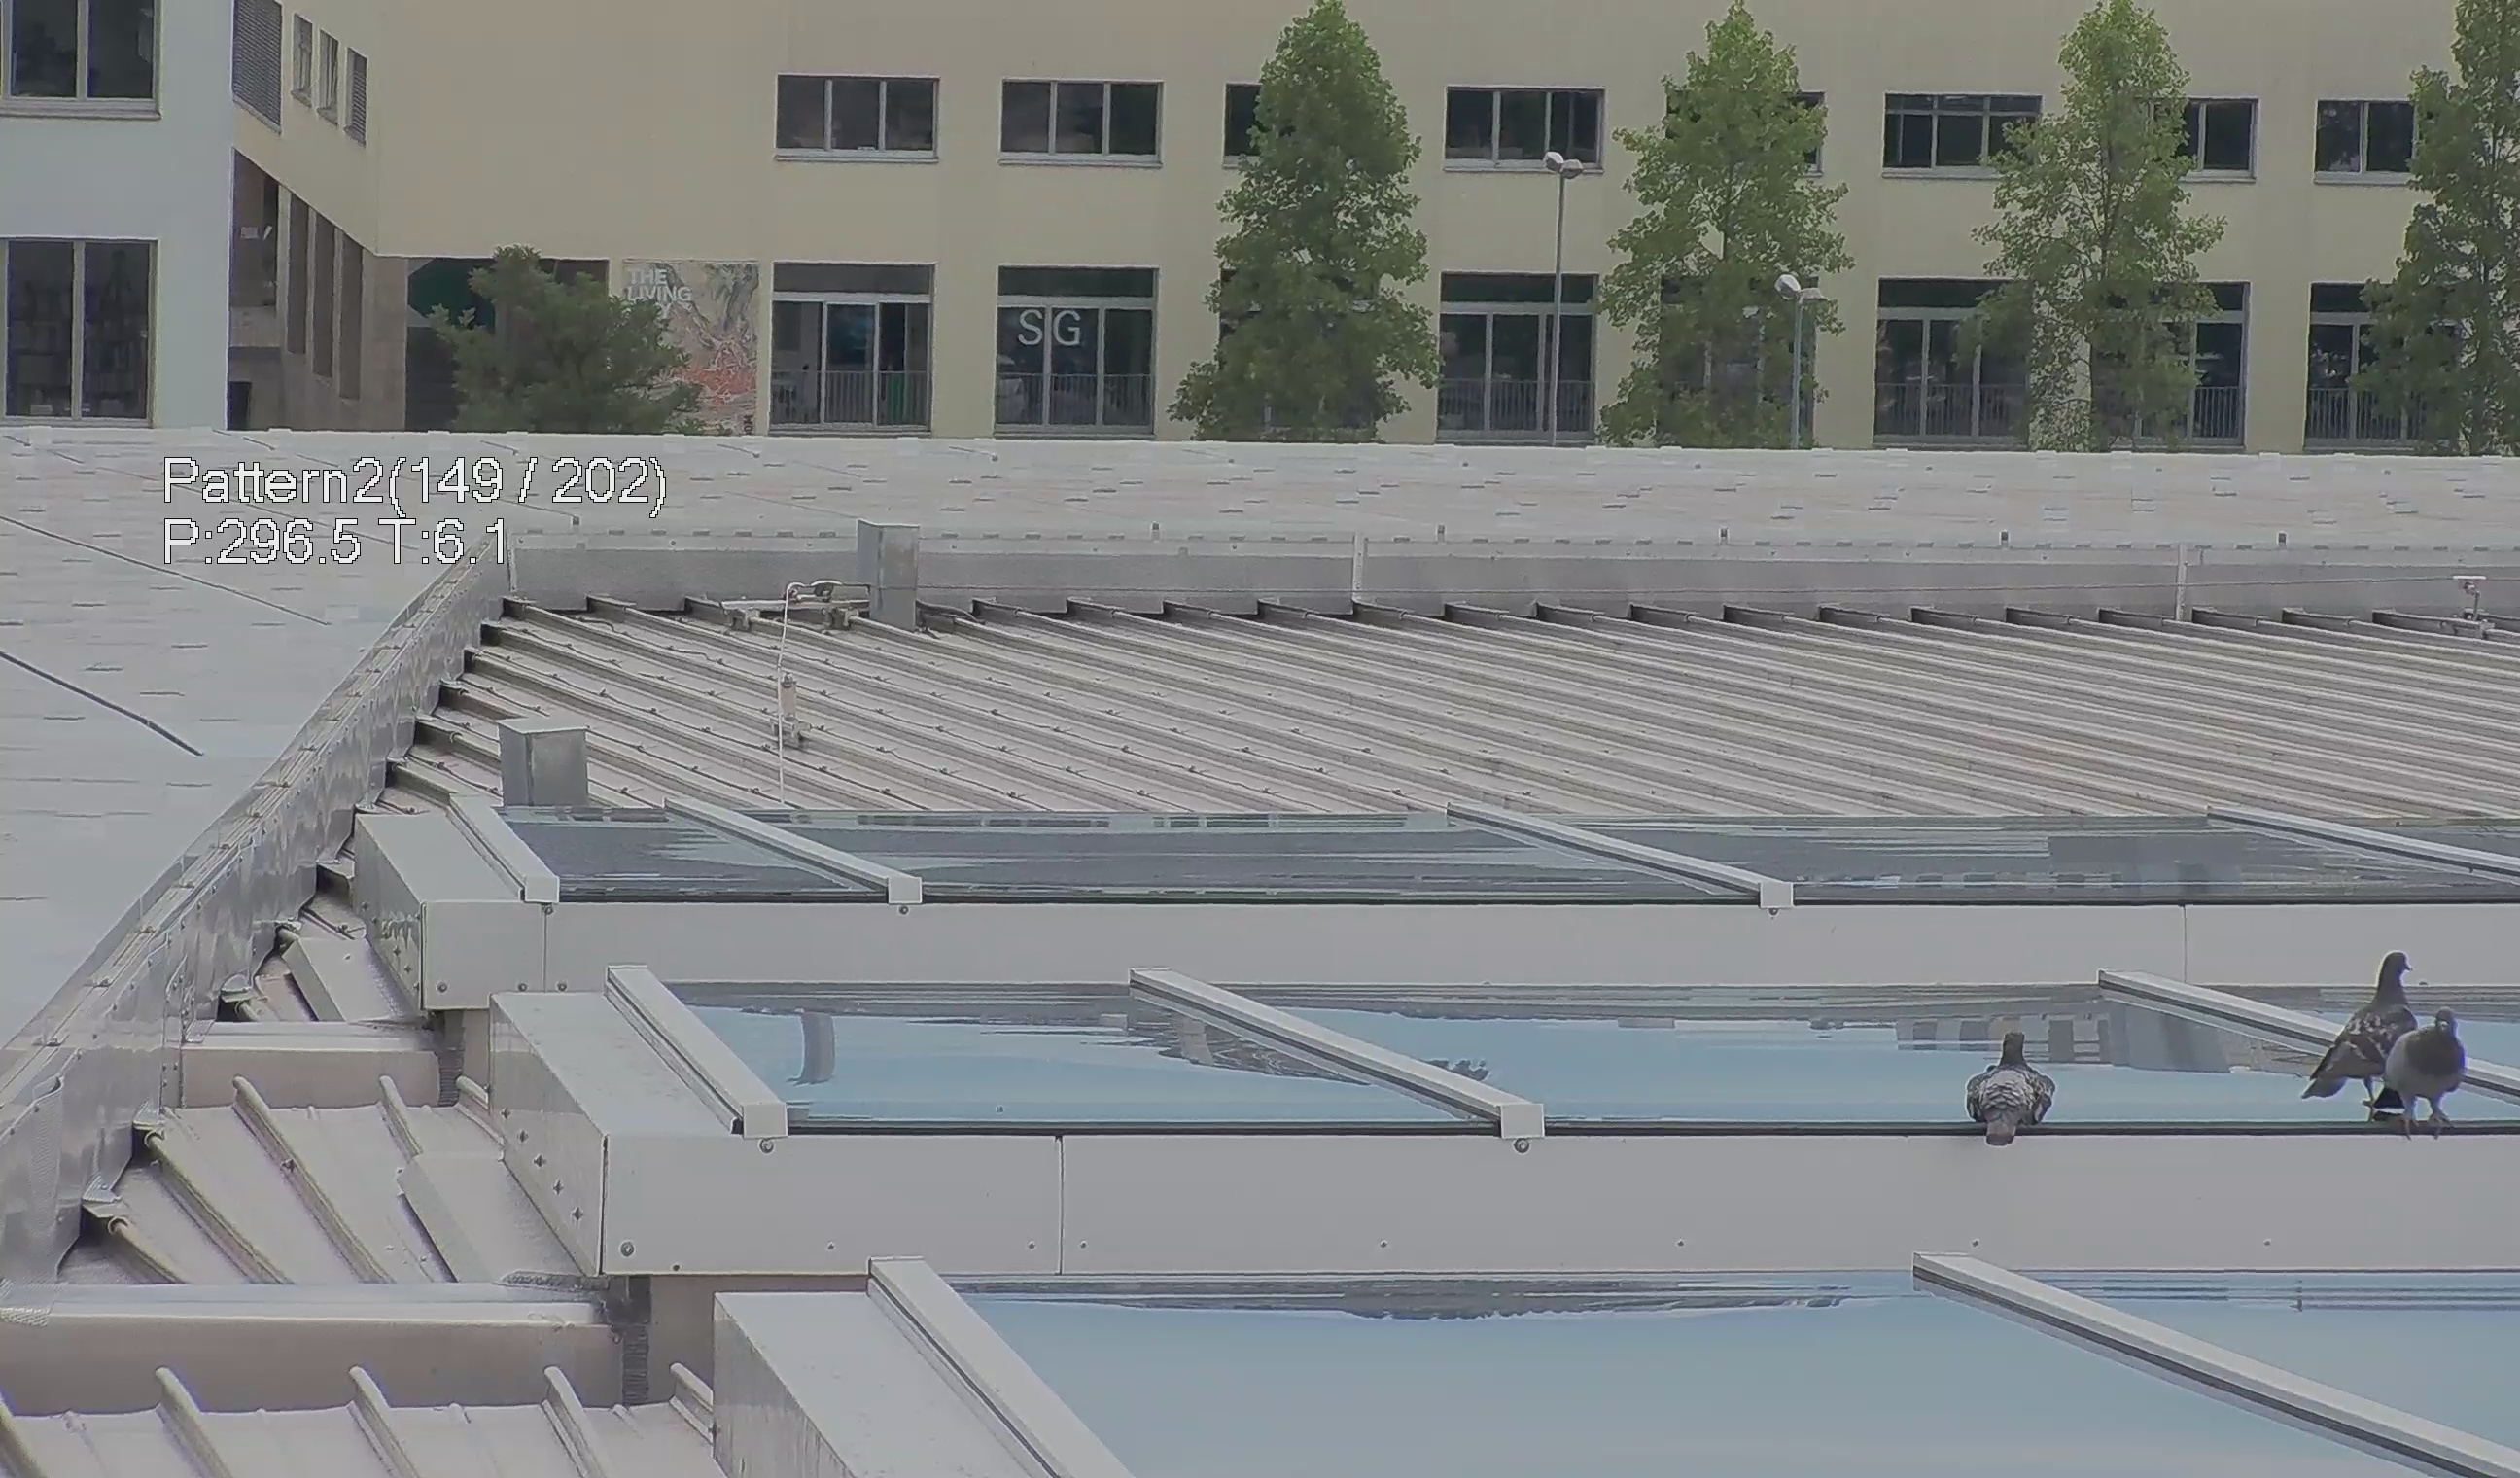Pigeon: (2305, 954, 2432, 1114), (1964, 1012, 2072, 1161), (2374, 1013, 2501, 1137)
